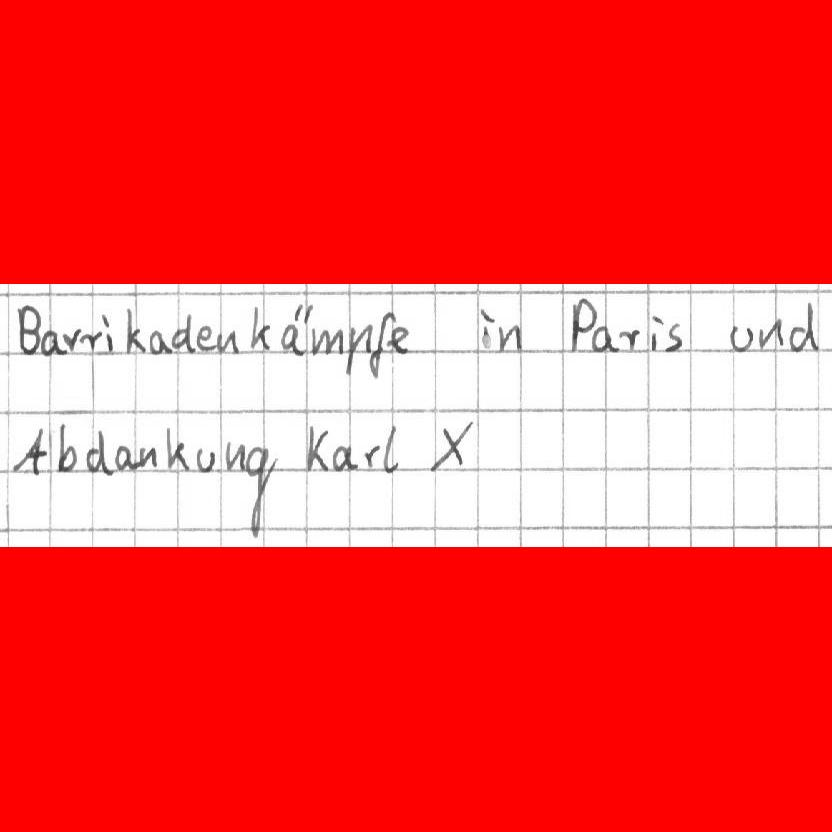Char: (242, 443, 277, 540), (424, 418, 476, 472), (366, 309, 395, 380), (277, 301, 313, 355), (11, 425, 48, 476), (787, 299, 821, 352), (344, 323, 374, 377), (84, 426, 114, 477), (569, 295, 595, 352), (16, 301, 42, 356), (163, 424, 192, 472), (305, 422, 332, 472), (169, 313, 196, 356), (123, 305, 146, 355), (249, 304, 273, 351), (56, 420, 77, 473), (309, 326, 344, 356), (328, 442, 359, 474), (757, 315, 785, 350), (384, 322, 411, 358), (477, 305, 498, 351), (496, 320, 523, 354), (383, 423, 400, 477), (224, 439, 248, 473), (112, 441, 138, 472), (728, 324, 755, 353), (40, 327, 65, 357), (590, 323, 615, 353), (663, 320, 683, 354), (194, 446, 218, 474), (617, 326, 642, 352), (215, 327, 238, 355), (148, 328, 171, 355), (362, 441, 382, 472), (194, 324, 216, 352), (100, 311, 115, 352), (136, 444, 159, 469), (62, 325, 81, 355), (649, 313, 664, 351), (79, 329, 103, 352)
